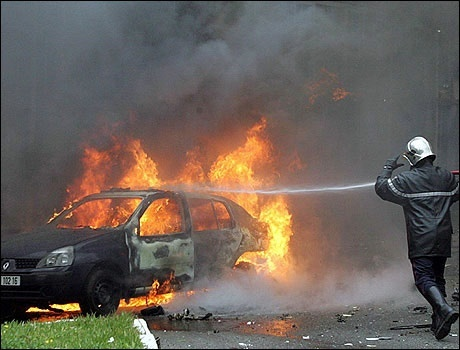fire: (47, 107, 301, 279), (225, 190, 295, 274), (116, 273, 179, 309)
